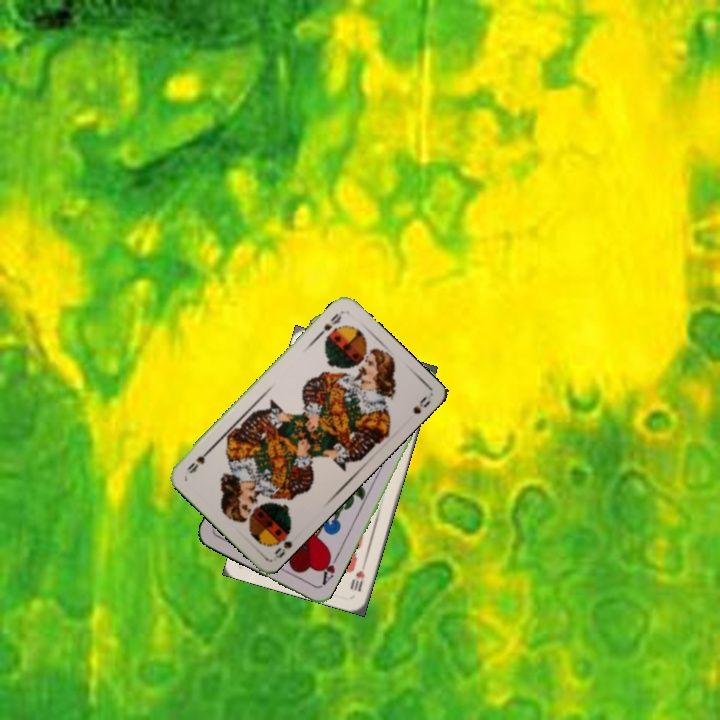H10: (347, 566, 367, 594)
HA: (316, 548, 341, 589)
SO: (267, 523, 296, 561), (313, 308, 345, 341)
